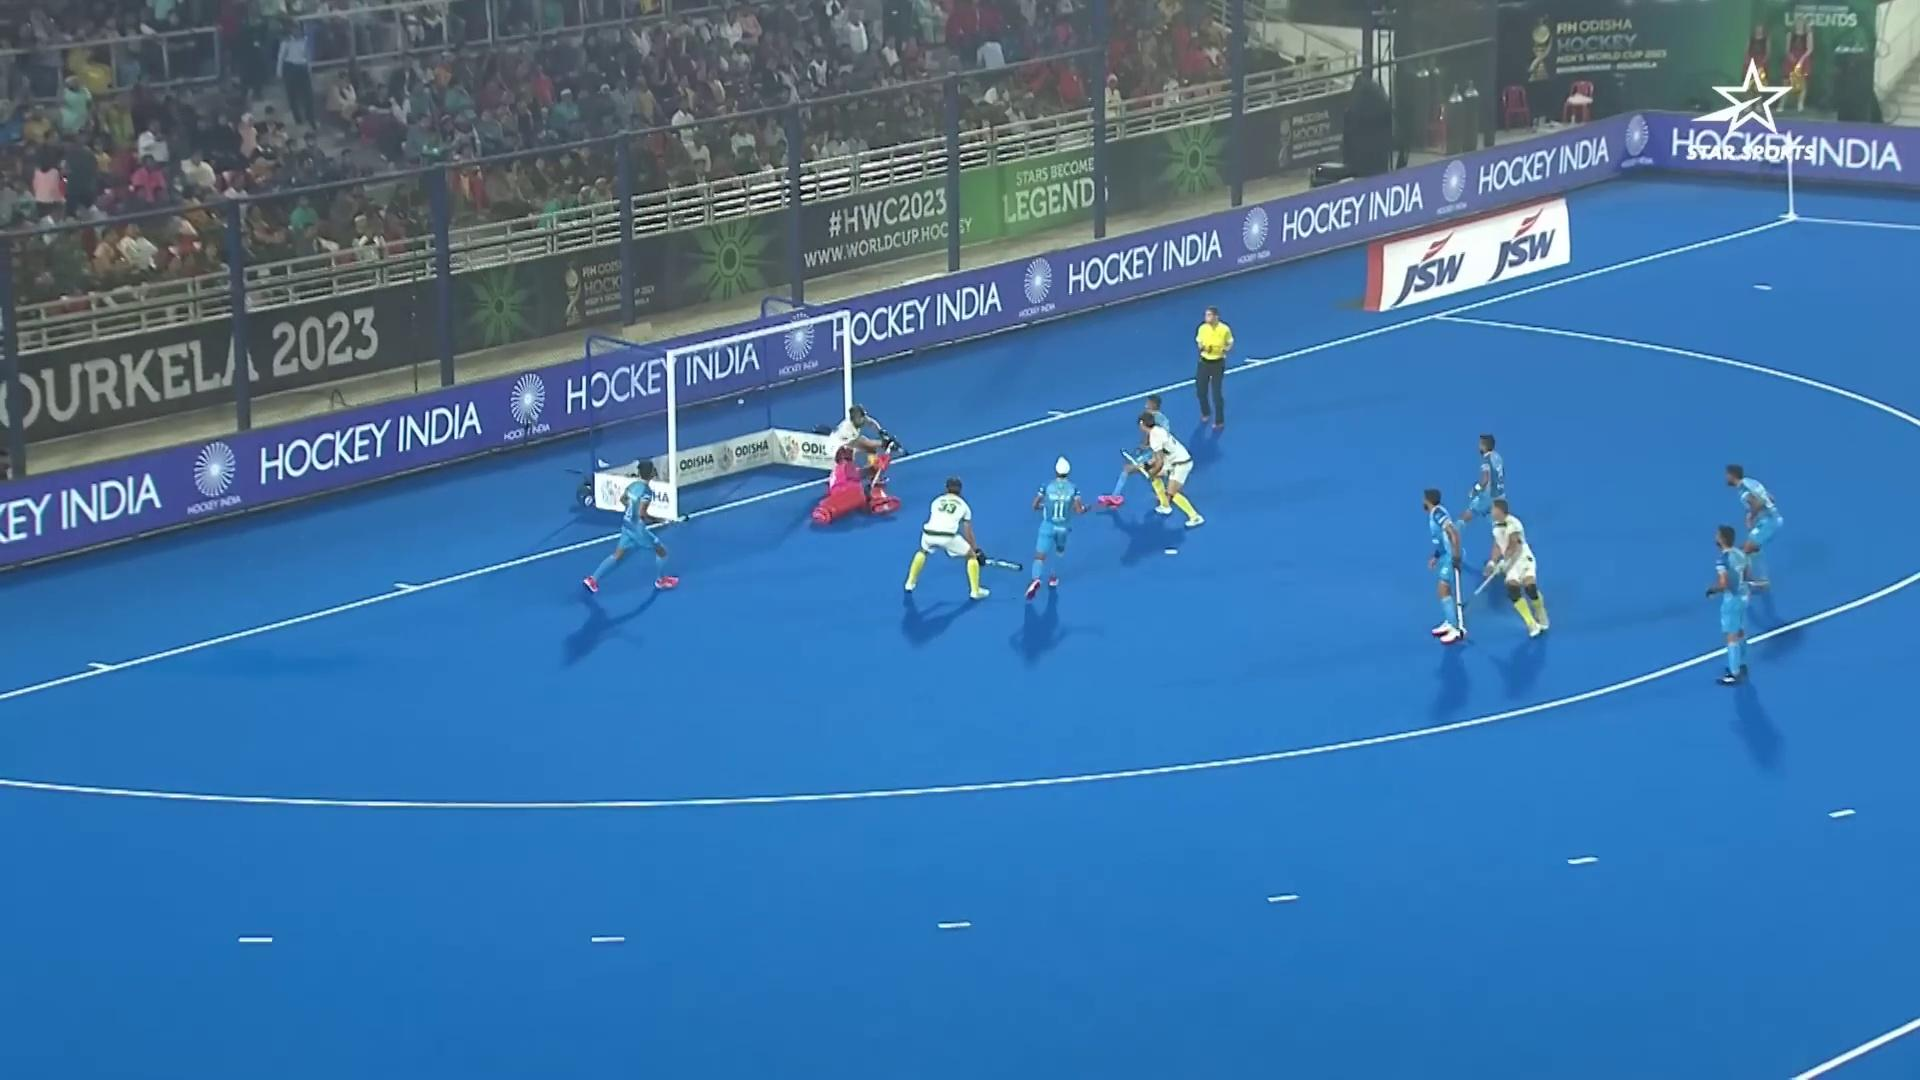ball: (736, 397, 745, 406)
